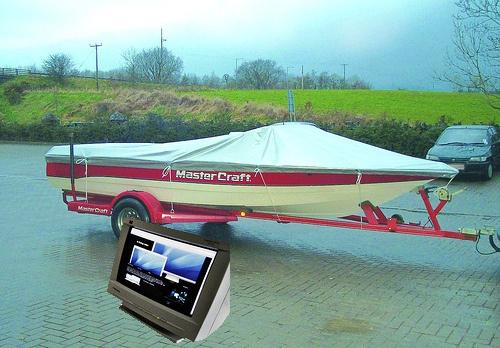tampered: (108, 218, 230, 343)
